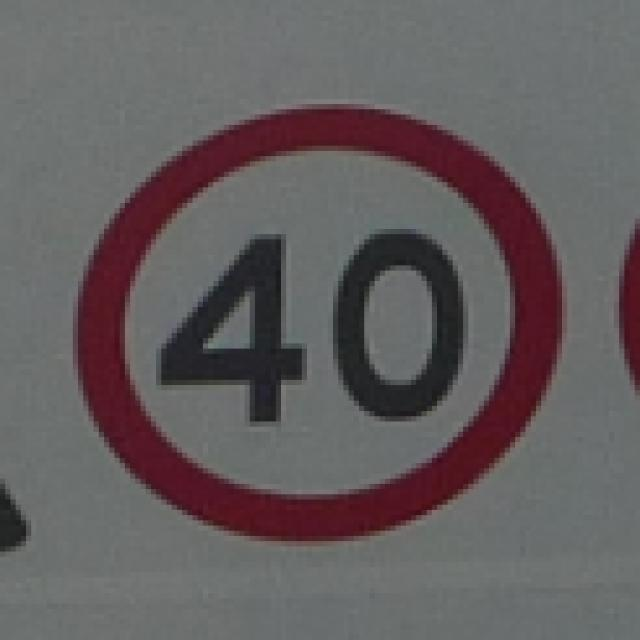Speed: (76, 94, 570, 537)
